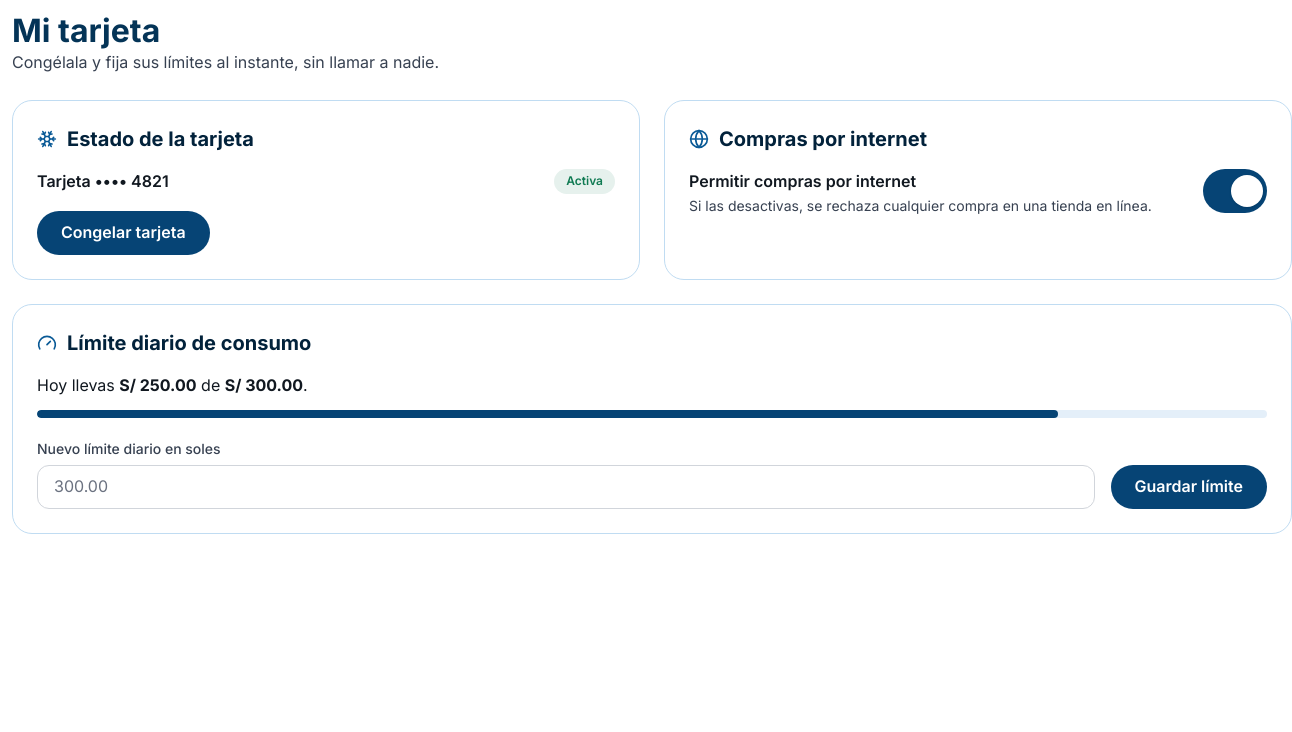
Test: Controles de la tarjeta · HU-10 · AYNI-252 › el interruptor deshabilita las compras por internet sin tocar el límite
Expected: the heading "Estado de la tarjeta" is shown, [37,127,254,151]
Click the switch named "Permitir compras por internet" at (1235, 191), box [1203,169,1267,213]
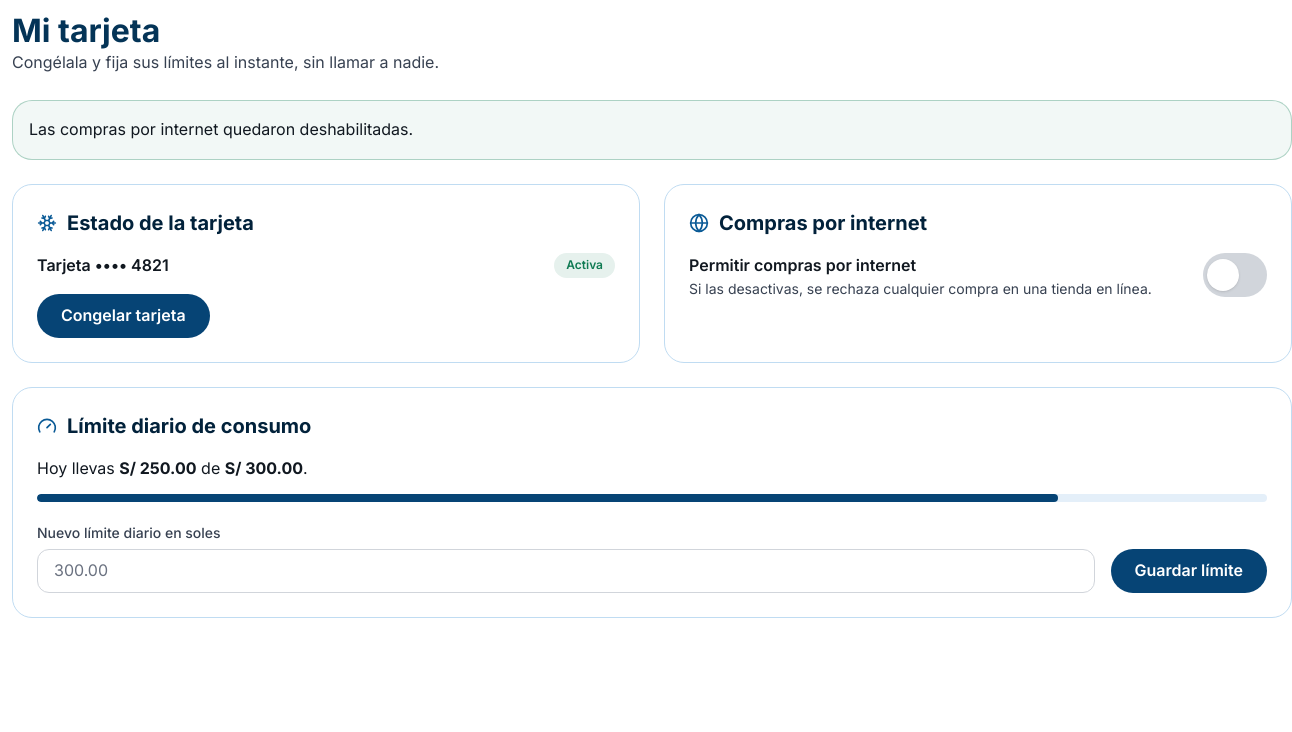
Result: the message shows "quedaron deshabilitadas" at [29,119,413,139]
